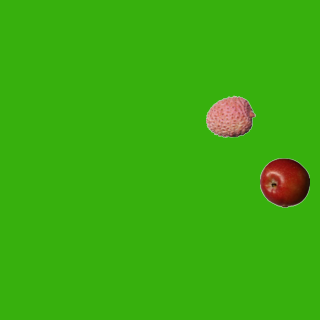Apple Braeburn: (259, 157, 309, 207)
Lychee: (205, 91, 255, 141)
